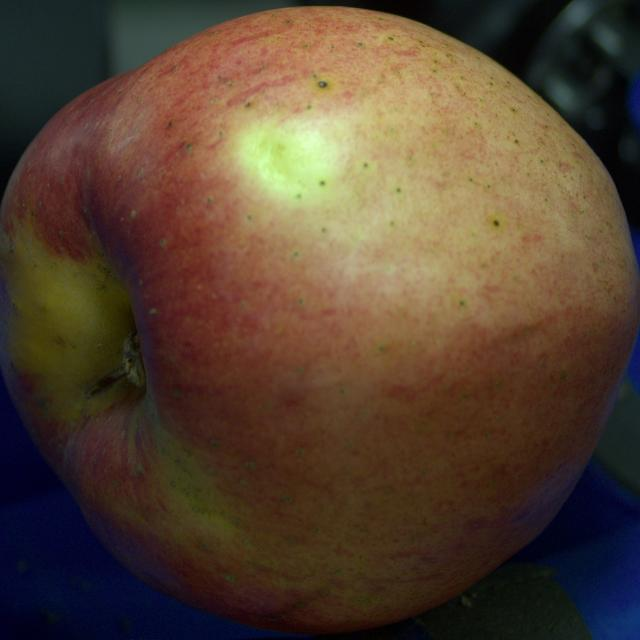apple: (0, 8, 639, 632)
pest: (318, 81, 327, 87), (494, 219, 499, 226)
